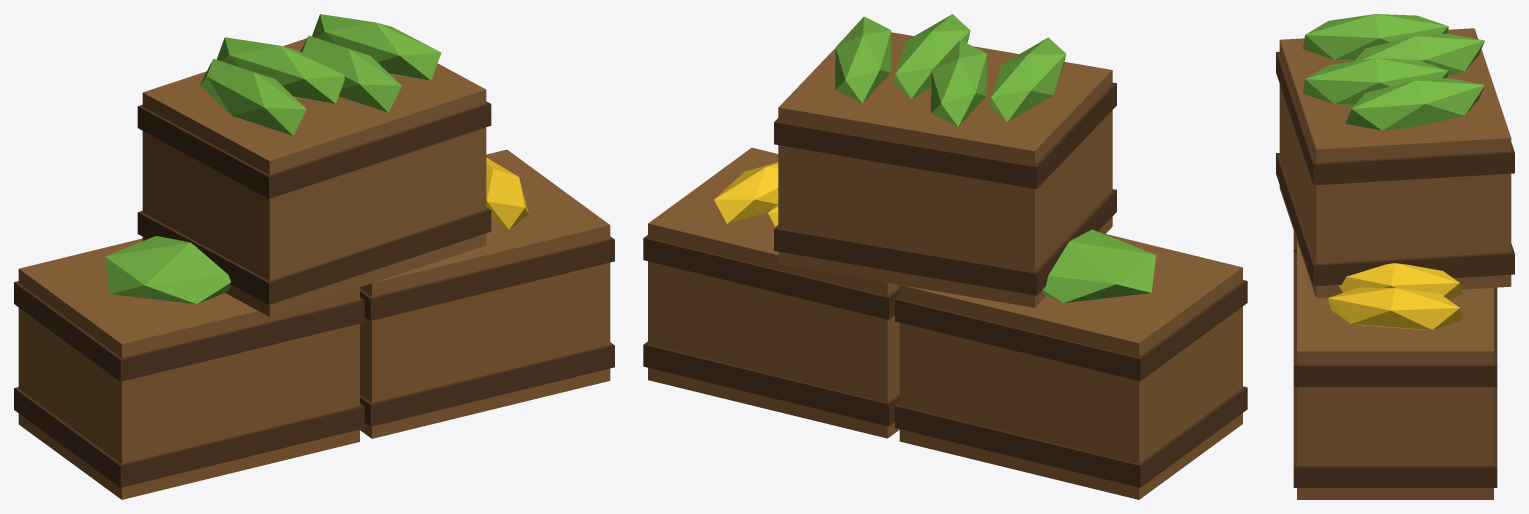
Rendered from Cajas de platano.fbx.
3 views of the same model, side by side, from view 1: azimuth 30°, elevation 25°; view 2: azimuth 150°, elevation 25°; view 3: azimuth 270°, elevation 25° (orthographic). The views are drawn at different scales.
Parts seen in each view (by area): view 1: Cajas de platano; view 2: Cajas de platano; view 3: Cajas de platano.
Boxes of the visible parts, x1,y1,x2,y2 form: Cajas de platano: (14,14,614,499); Cajas de platano: (643,14,1247,499); Cajas de platano: (1276,14,1514,499).
Size of the model in its own units: 0.83 by 0.57 by 0.364.
